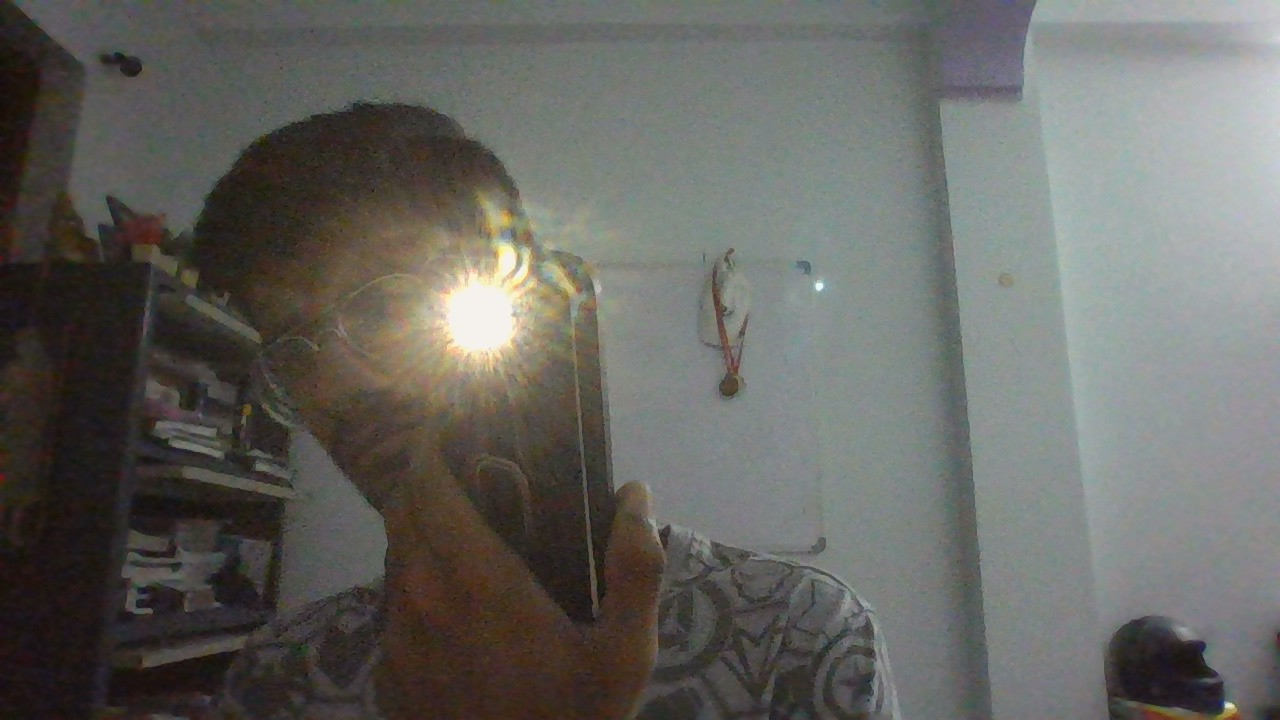Glare: (440, 280, 518, 357)
